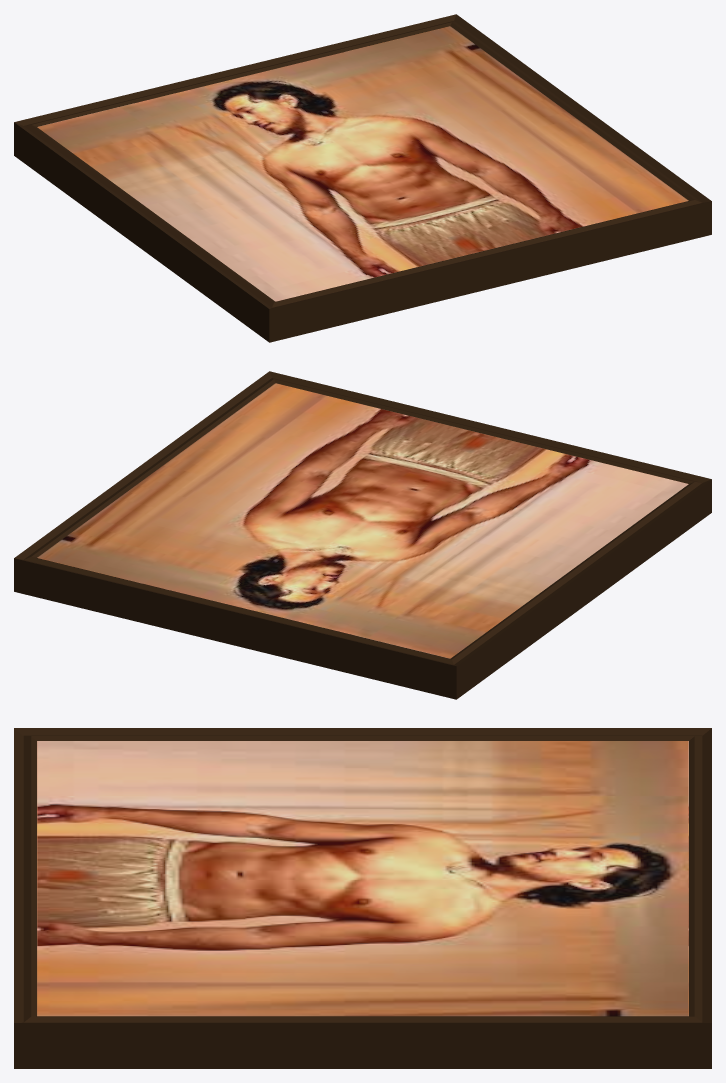
Rendered from markiplier3.fbx.
3 views of the same model, one above another, from view 1: azimuth 30°, elevation 25°; view 2: azimuth 150°, elevation 25°; view 3: azimuth 270°, elevation 25° (orthographic). The views are drawn at different scales.
Visible parts, largest first — view 1: Cube.001; view 2: Cube.001; view 3: Cube.001.
Part boxes in pixels (x1,y1,x2,y2): Cube.001: [14, 14, 711, 342]; Cube.001: [14, 371, 711, 699]; Cube.001: [14, 728, 711, 1068].
Bounding box in the file's own units: 1600 × 116 × 1600.
Materials: 2 (1 with a texture image).
